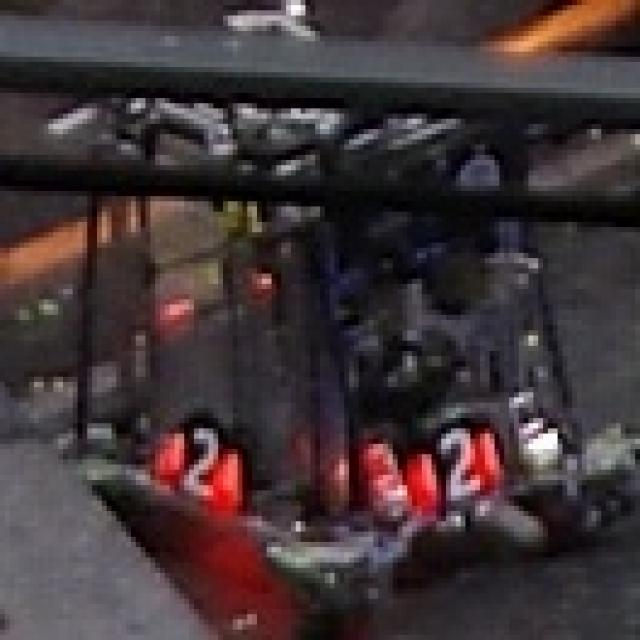R2: (165, 413, 247, 511), (412, 423, 504, 501)
